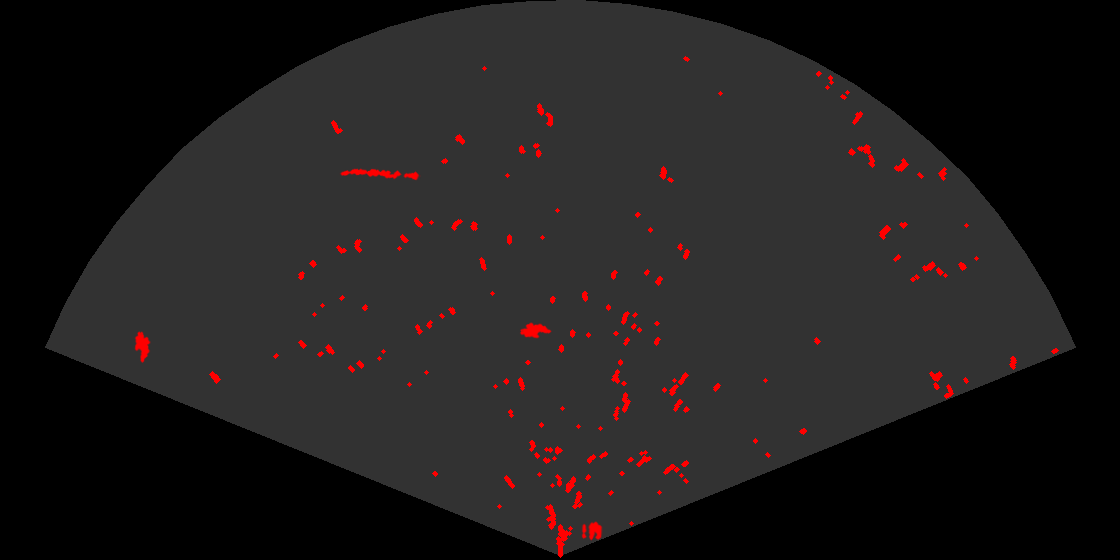AUV: (518, 321, 553, 340), (133, 330, 151, 365)
ball: (580, 520, 604, 542)
chain: (339, 167, 421, 182)
